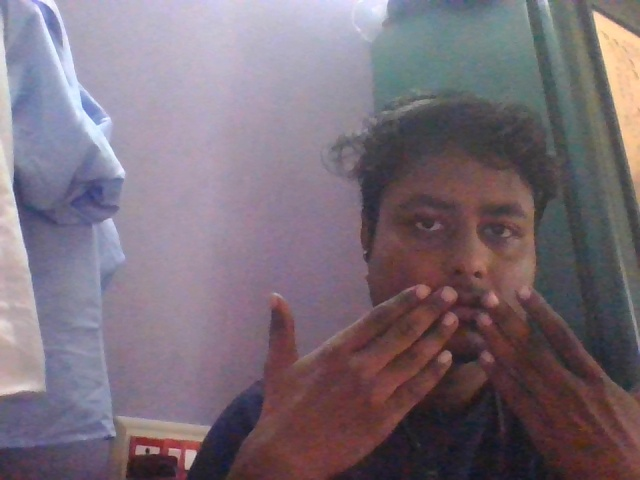thankyou: (235, 185, 640, 480)
